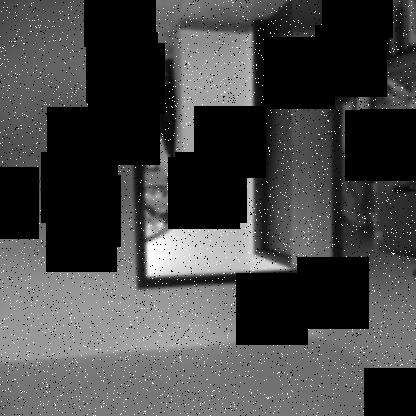Porte: (127, 0, 360, 312)
